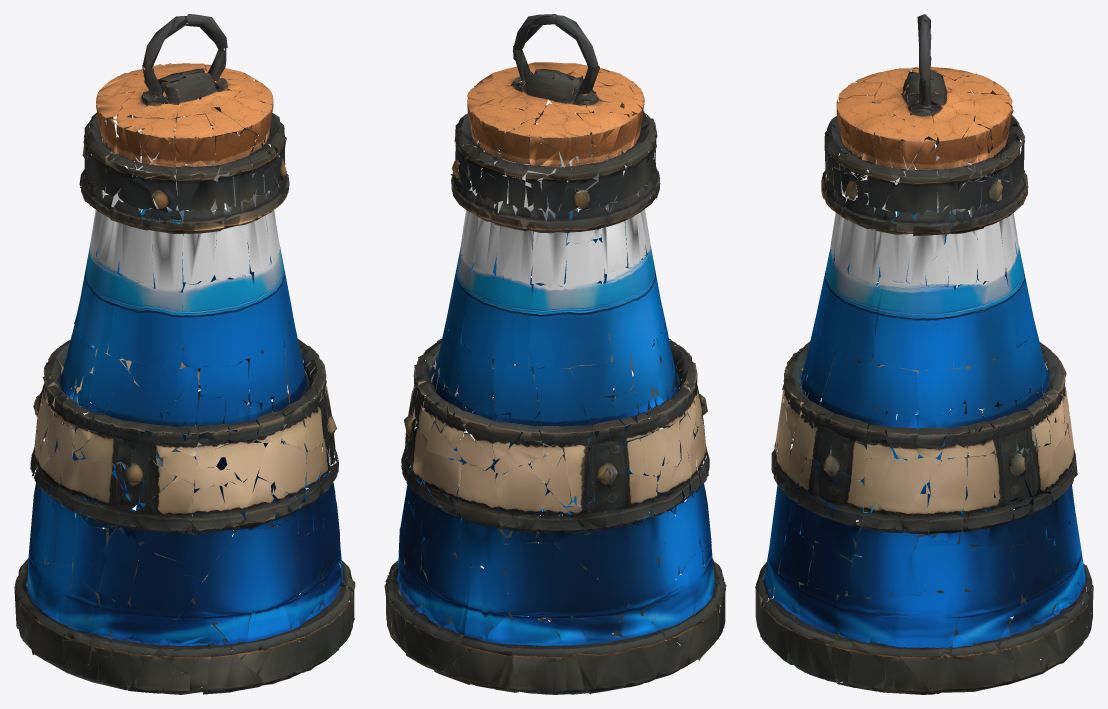
File: cleaned-model.glb
The picture shows the model from 3 angles, left to right: view 1: azimuth 30°, elevation 25°; view 2: azimuth 150°, elevation 25°; view 3: azimuth 270°, elevation 25°; orthographic projection.
Visible parts, largest first — view 1: Mesh_0; view 2: Mesh_0; view 3: Mesh_0.
Part boxes in pixels (box(x1,y1,x2,y2)): Mesh_0: box(14, 14, 355, 694); Mesh_0: box(384, 14, 726, 694); Mesh_0: box(755, 14, 1093, 694).
Bounding box in the file's own units: 0.1414 × 0.2805 × 0.1412.
Materials: 1 (1 with a texture image).
